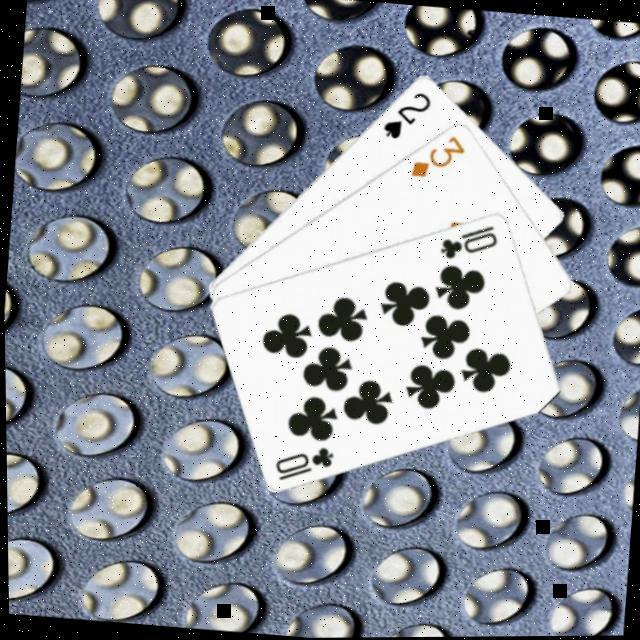10C: (270, 438, 338, 485), (437, 216, 503, 264)
2S: (379, 84, 436, 144)
3D: (408, 127, 472, 182)
